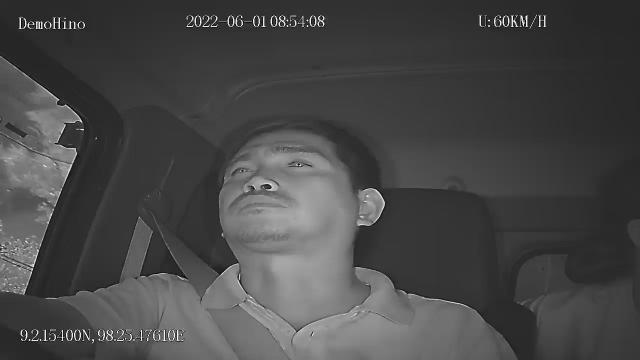SafeDriving: (274, 151, 323, 175), (224, 158, 260, 179)
Seatbelt: (132, 182, 296, 360)
